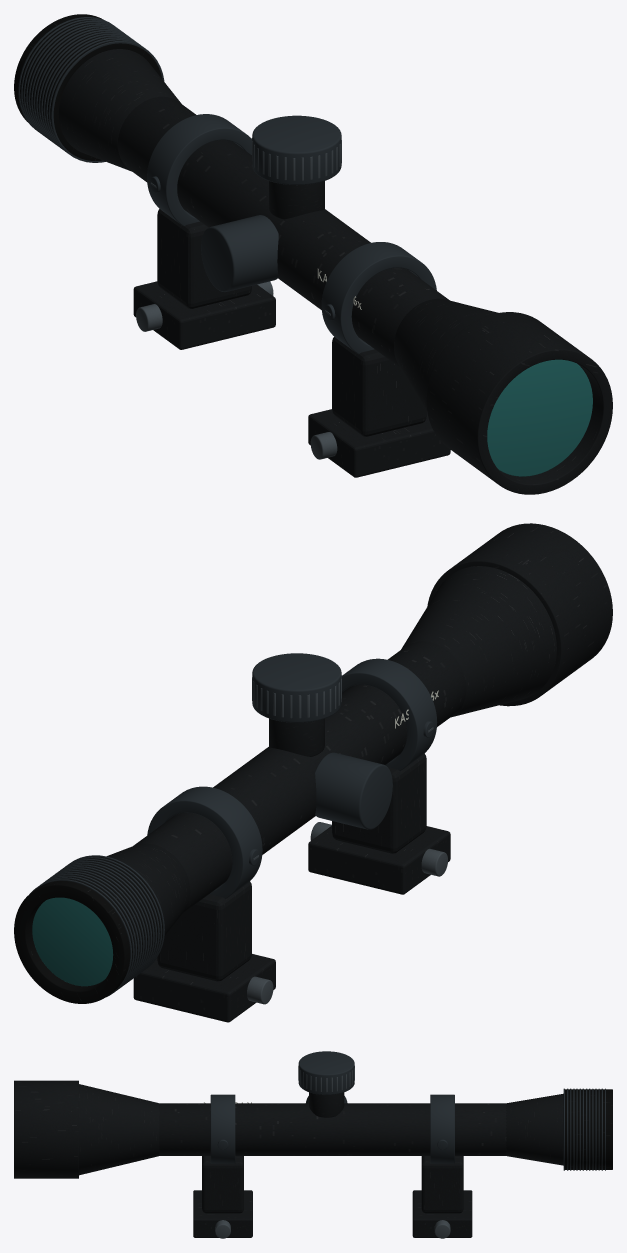
Rendered from kasumi_scope_geometry.glb.
3 views of the same model, one above another, from view 1: azimuth 30°, elevation 25°; view 2: azimuth 150°, elevation 25°; view 3: azimuth 270°, elevation 25° (orthographic). The views are drawn at different scales.
Parts seen in each view (by area): view 1: BodyMesh; view 2: BodyMesh, OpticGlassRear; view 3: BodyMesh.
Part boxes in pixels (left/top/right/bottom): BodyMesh: left=14, top=14, right=612, bottom=494; BodyMesh: left=14, top=523, right=612, bottom=1022; OpticGlassRear: left=32, top=897, right=113, bottom=986; BodyMesh: left=14, top=1051, right=612, bottom=1238.
Bounding box in the file's own units: 0.061 × 0.101 × 0.341.
Materials: 6 (3 with a texture image).
